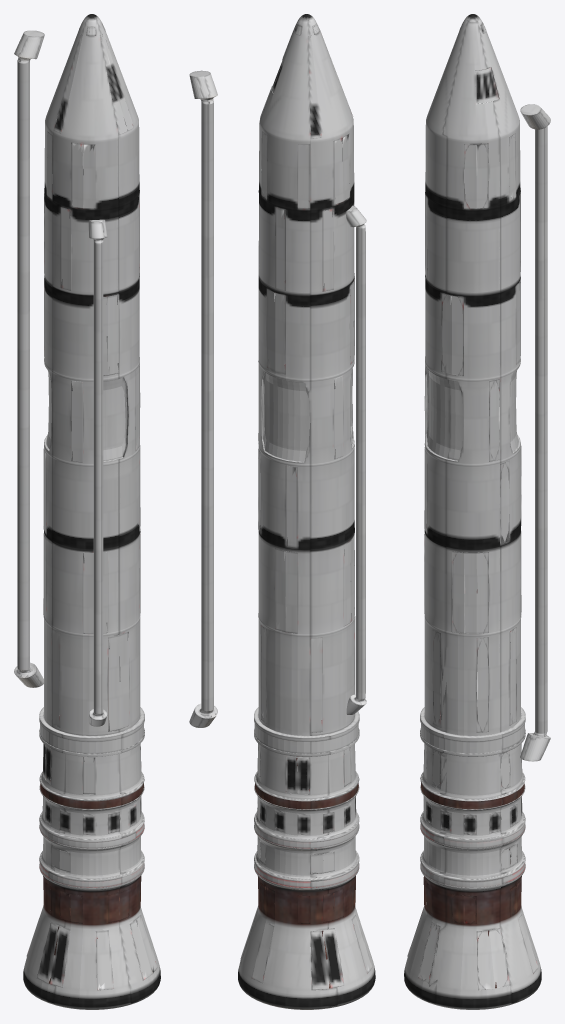
File: motor_izquierdo.obj
3 views of the same model, side by side, from view 1: azimuth 90°, elevation 25°; view 2: azimuth 150°, elevation 25°; view 3: azimuth 270°, elevation 25° (orthographic).
Parts seen in each view (by area): view 1: motor_izquierdo; view 2: motor_izquierdo; view 3: motor_izquierdo.
Part boxes in pixels (x1,y1,x2,y2): motor_izquierdo: (14,14,160,1009); motor_izquierdo: (189,14,375,1009); motor_izquierdo: (404,14,550,1009).
Bounding box in the file's own units: 4.83 × 30.51 × 4.19.
Materials: 1 (1 with a texture image).
